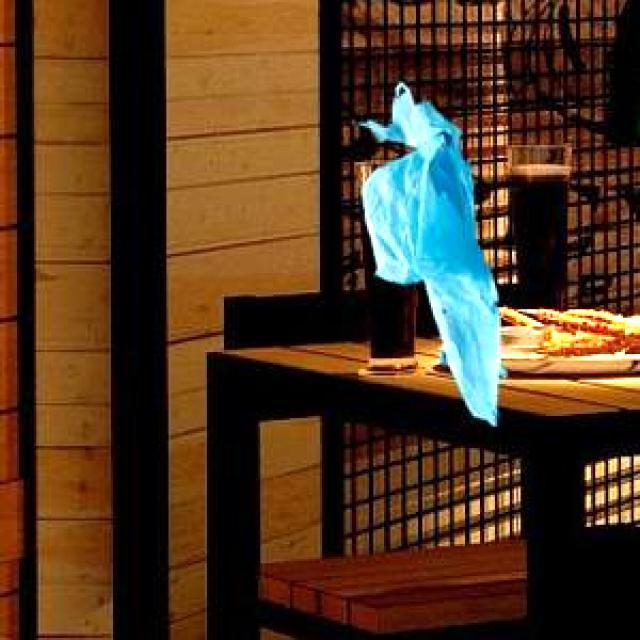Plastic_Bag: (360, 84, 504, 422)
